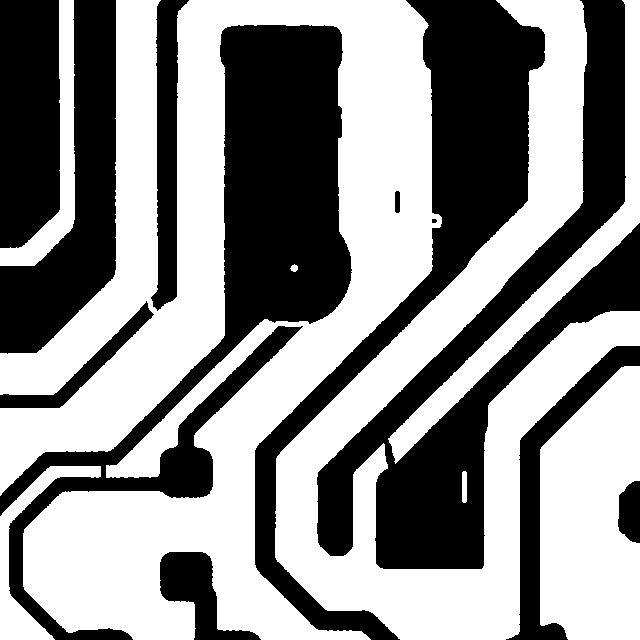copper: (385, 181, 409, 222)
mousebite: (420, 203, 451, 237)
open: (265, 311, 318, 336), (137, 288, 168, 326)
pin-hole: (452, 461, 476, 512)
short: (373, 426, 404, 484), (90, 447, 115, 492)
spur: (608, 482, 636, 543), (322, 96, 351, 147)
